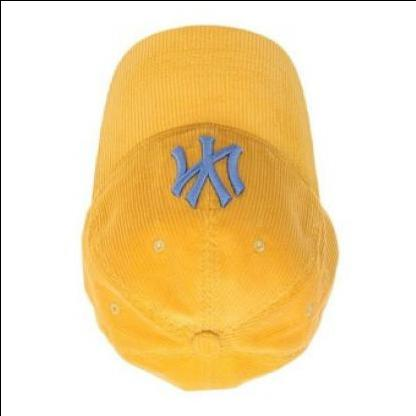cap: (66, 19, 343, 402)
